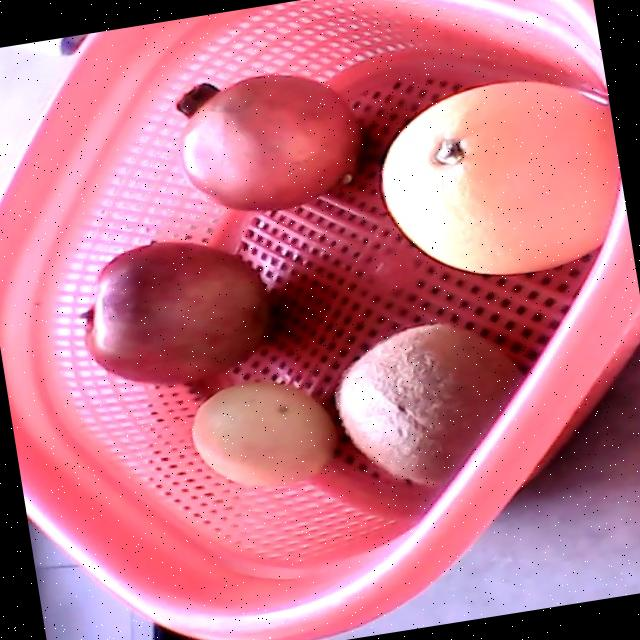apple: (79, 241, 267, 385)
kiwi: (337, 323, 524, 487)
lemon: (193, 381, 336, 485)
orange: (382, 82, 621, 275)
pomegranate: (178, 74, 362, 210)
